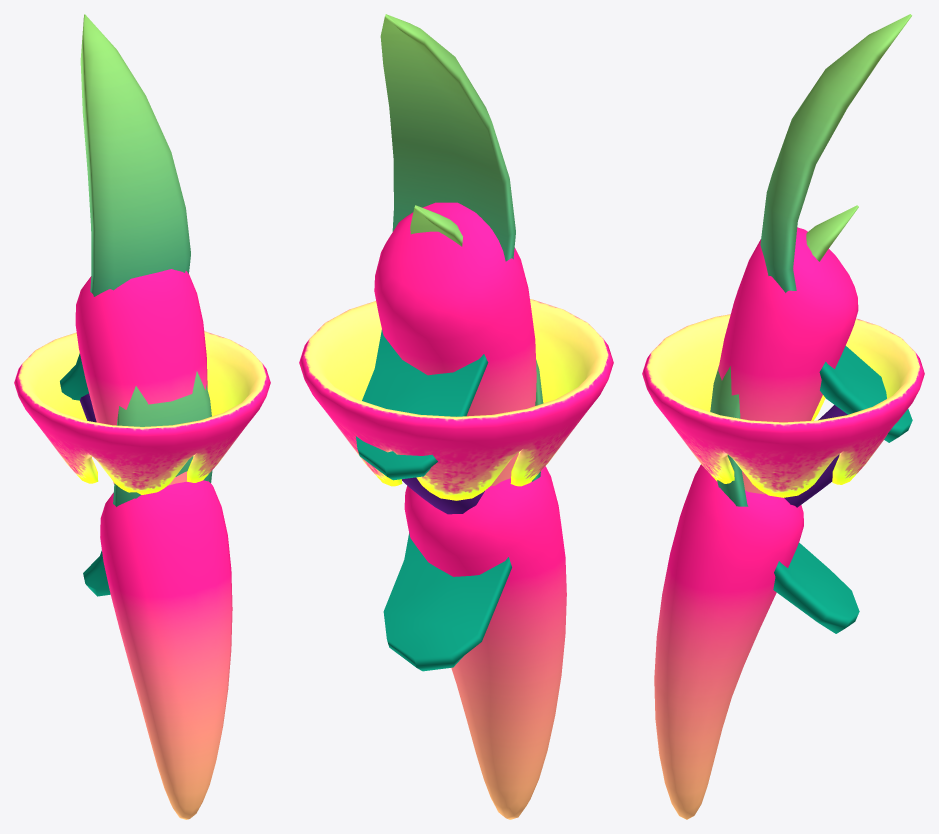
The model's file is Xormite_Spawner_Bits.fbx.
3 renders of one model, left to right at view 1: azimuth 30°, elevation 25°; view 2: azimuth 150°, elevation 25°; view 3: azimuth 270°, elevation 25°, orthographic. The views are drawn at different scales.
Parts seen in each view (by area): view 1: Leg, Butt, Foot, Arm; view 2: Leg, Butt, Foot, Arm; view 3: Leg, Butt, Foot, Arm.
Boxes of the visible parts, x1=… form: Leg: x1=60, y1=14, x2=232, y2=819; Butt: x1=14, y1=331, x2=270, y2=494; Foot: x1=75, y1=269, x2=207, y2=485; Arm: x1=83, y1=371, x2=212, y2=596; Leg: x1=356, y1=14, x2=566, y2=819; Butt: x1=299, y1=299, x2=613, y2=500; Foot: x1=374, y1=202, x2=536, y2=486; Arm: x1=383, y1=205, x2=543, y2=671; Leg: x1=654, y1=14, x2=912, y2=819; Butt: x1=642, y1=314, x2=924, y2=497; Foot: x1=718, y1=227, x2=858, y2=494; Arm: x1=710, y1=205, x2=859, y2=633.
Size of the model in its own units: 73.66 by 232 by 73.66.
